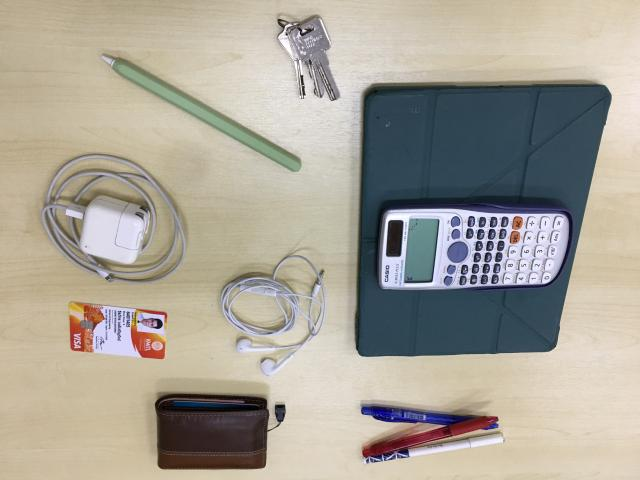Keys: (278, 15, 341, 101)
Pen: (360, 405, 503, 462)
Wallet: (153, 393, 271, 471)
wire: (41, 154, 188, 284), (221, 255, 326, 377)
